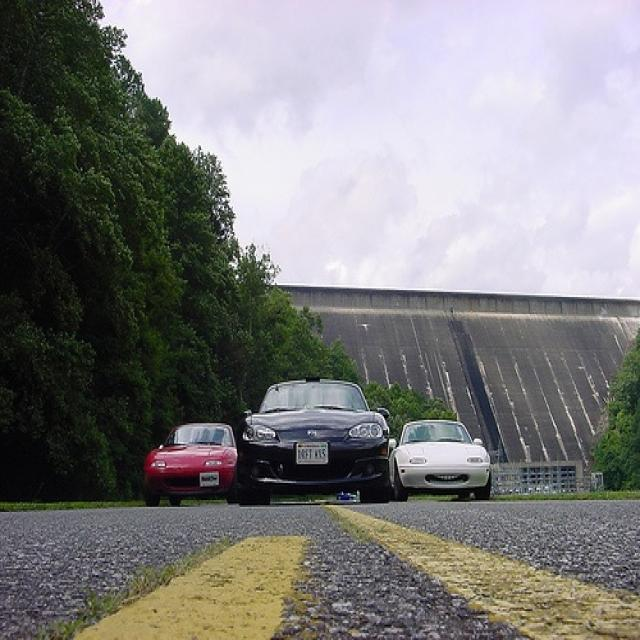car: (237, 375, 389, 507), (389, 420, 494, 502), (141, 421, 237, 507)
